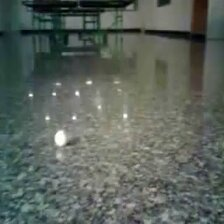w: (53, 129, 67, 147)
